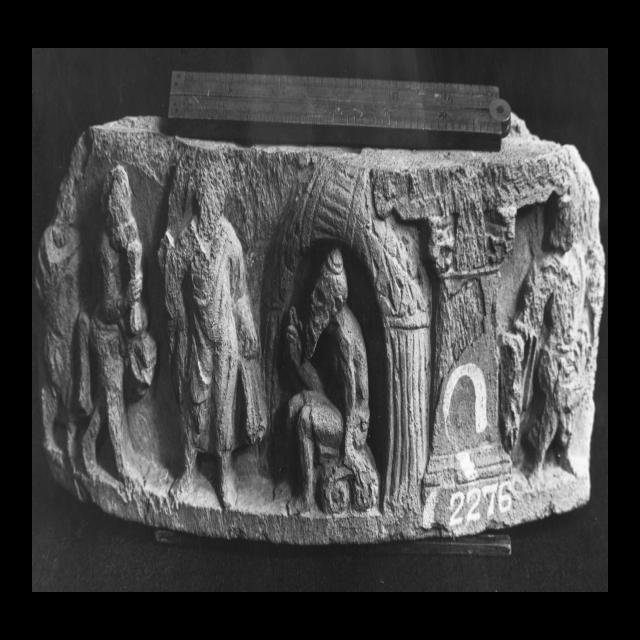buddha-standing: (159, 158, 268, 507)
